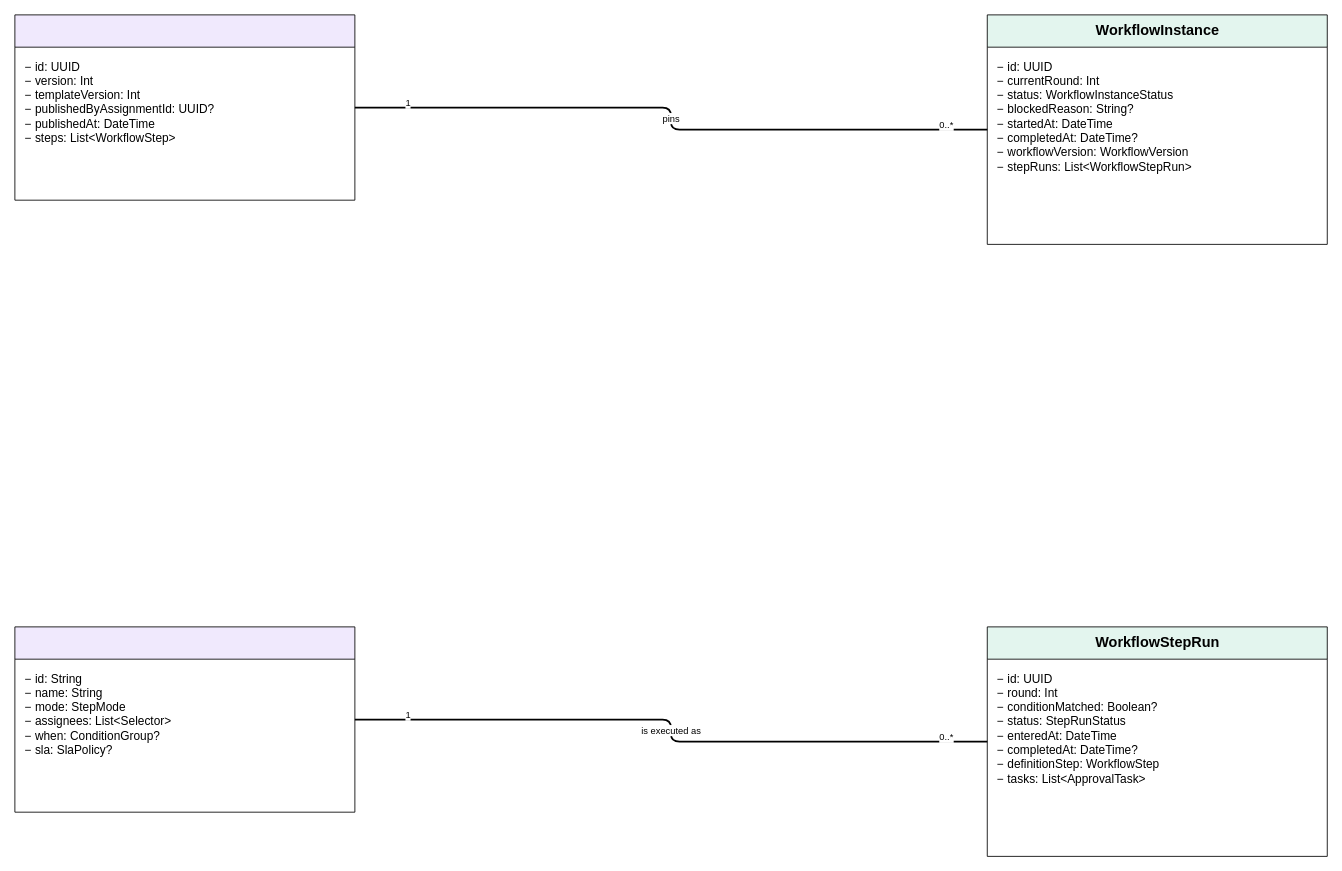
Image size: 1342x871. Some labels were removed from this diagram. The box of each missing label's shape, as (x1, y1, x2, y2) in pixels:
WorkflowStep: (14, 626, 355, 812)
WorkflowVersion: (14, 14, 355, 200)
